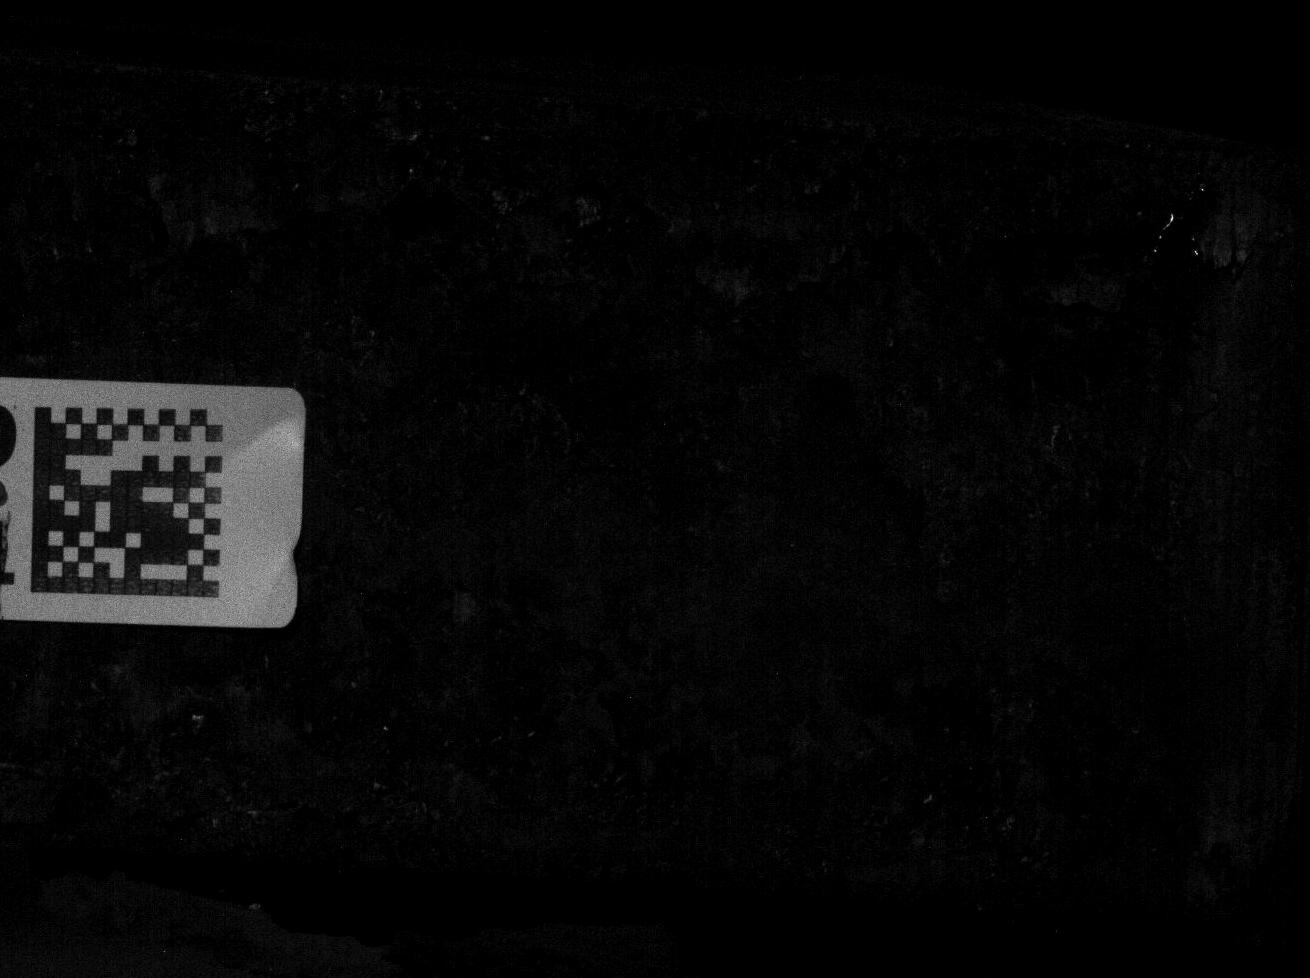data matrix: (25, 398, 235, 606)
